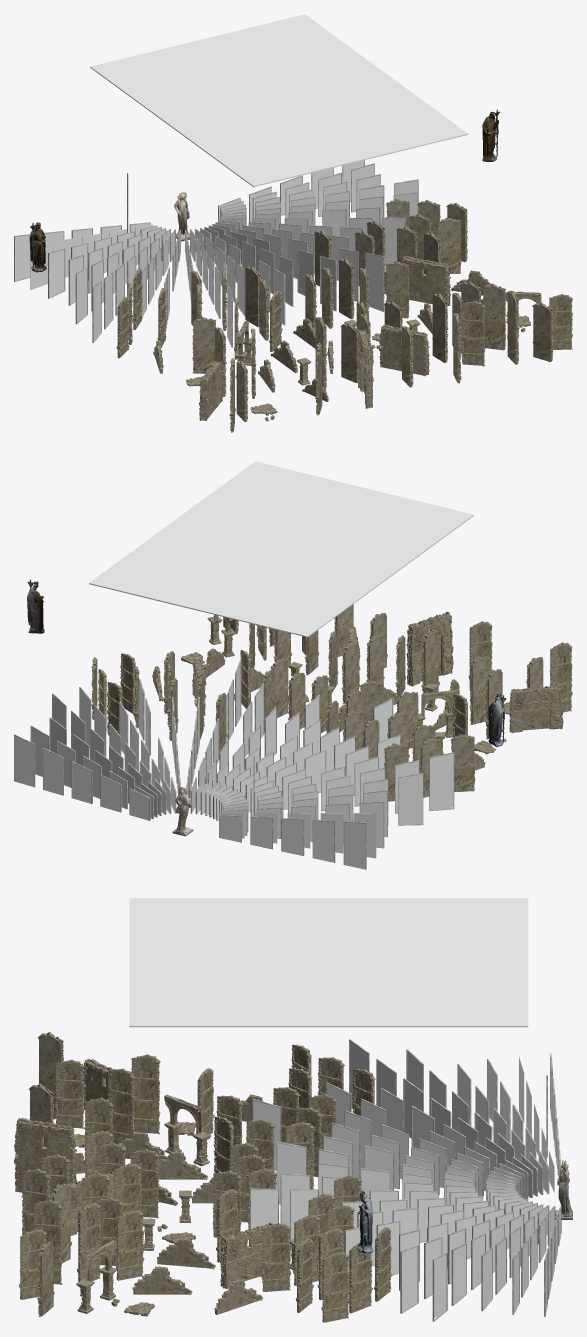
The model's file is project17.glb.
The picture shows the model from 3 angles, top to bottom: view 1: azimuth 30°, elevation 25°; view 2: azimuth 150°, elevation 25°; view 3: azimuth 270°, elevation 25°; orthographic projection. The views are drawn at different scales.
Parts seen in each view (by area): view 1: fém - rozsdamentes acél; view 2: fém - rozsdamentes acél; view 3: fém - rozsdamentes acél.
Part boxes in pixels (x1=…): fém - rozsdamentes acél: x1=14, y1=14, x2=572, y2=432; fém - rozsdamentes acél: x1=14, y1=461, x2=572, y2=869; fém - rozsdamentes acél: x1=14, y1=898, x2=572, y2=1322.
Size of the model in its own units: 22.1 by 9.33 by 18.64.
Materials: 5 (4 with a texture image).
